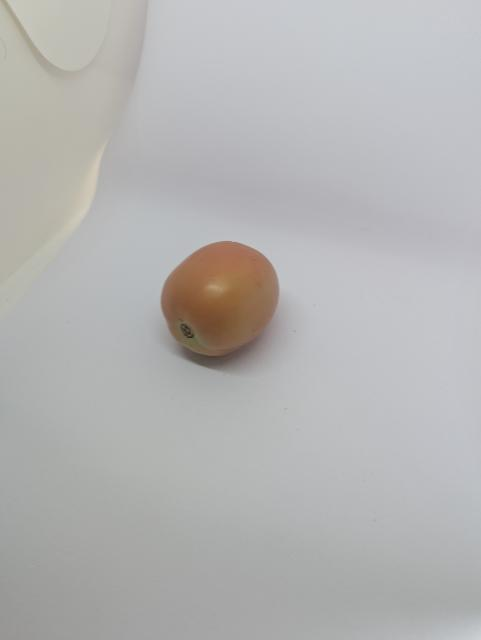turning: (155, 237, 285, 363)
